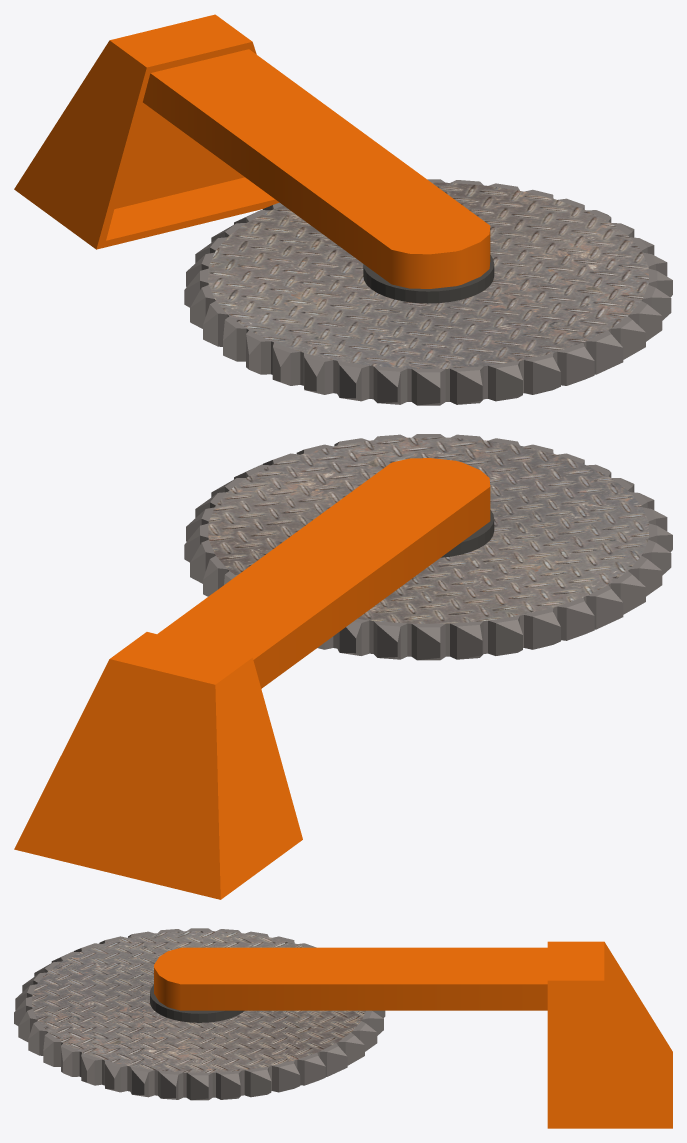
File: Sawblade.FBX
3 views of the same model, one above another, from view 1: azimuth 30°, elevation 25°; view 2: azimuth 150°, elevation 25°; view 3: azimuth 270°, elevation 25° (orthographic). The views are drawn at different scales.
Parts seen in each view (by area): view 1: Scythe, Base; view 2: Base, Scythe; view 3: Base, Scythe.
Boxes of the visible parts, x1,y1,x2,y2 form: Scythe: (184,179,672,405); Base: (14,14,490,288); Base: (14,458,490,899); Scythe: (184,434,672,660); Base: (154,941,672,1128); Scythe: (14,928,385,1100).
Size of the model in its own units: 26.22 by 10.05 by 46.53.
Materials: 2 (1 with a texture image).
